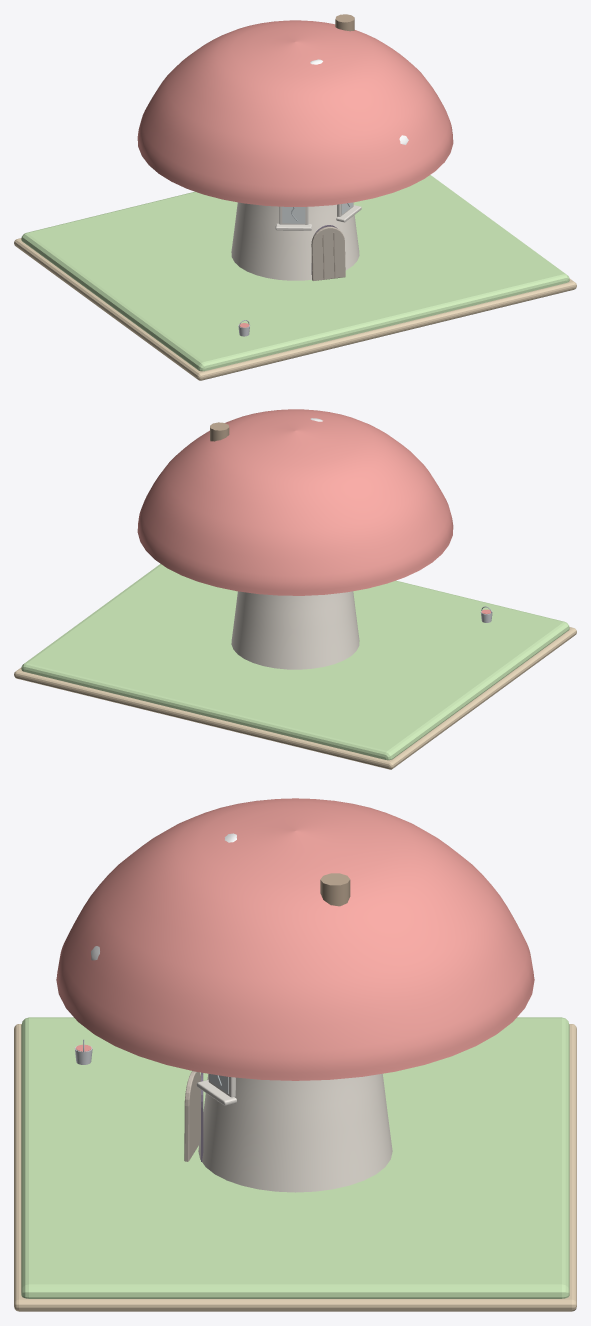
Rendered from building_forest_L04.glb.
3 renders of one model, top to bottom at view 1: azimuth 30°, elevation 25°; view 2: azimuth 150°, elevation 25°; view 3: azimuth 270°, elevation 25°, orthographic. The views are drawn at different scales.
Visible parts, largest first — view 1: forest_L4; view 2: forest_L4; view 3: forest_L4.
Part boxes in pixels (left/top/right/bottom): forest_L4: left=14, top=14, right=576, bottom=380; forest_L4: left=14, top=409, right=576, bottom=769; forest_L4: left=14, top=798, right=576, bottom=1311.
Bounding box in the file's own units: 26.61 × 15.17 × 22.6.
